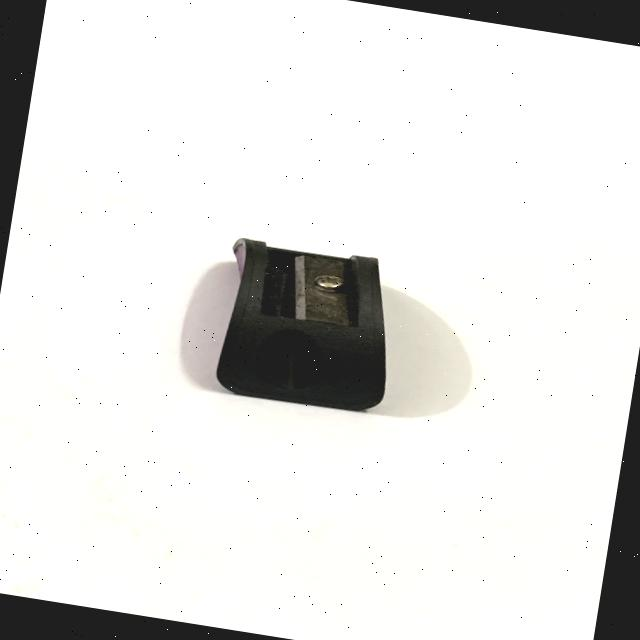Sharpner: (166, 196, 440, 454)
